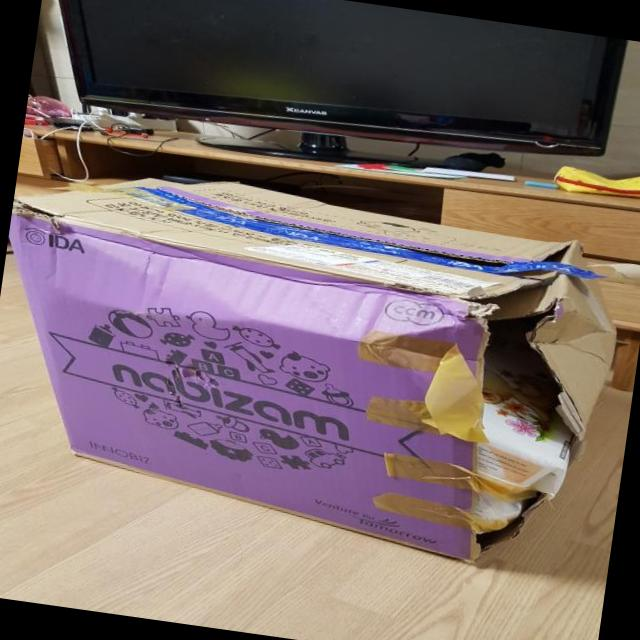box: (9, 175, 621, 564)
crushed: (21, 201, 434, 356)
tear: (443, 276, 595, 568)
